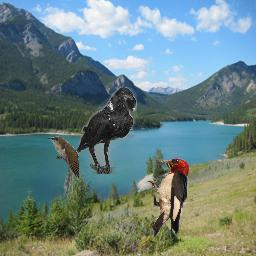Crow: (77, 87, 137, 174)
Cuckoo: (47, 136, 79, 195)
Woodpecker: (147, 158, 189, 239)
